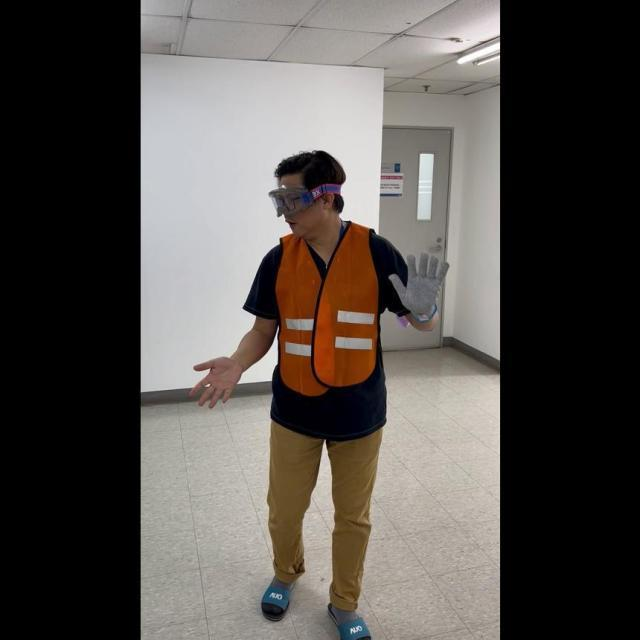bare_hand: (188, 353, 244, 409)
gloved_hand: (386, 247, 447, 320)
